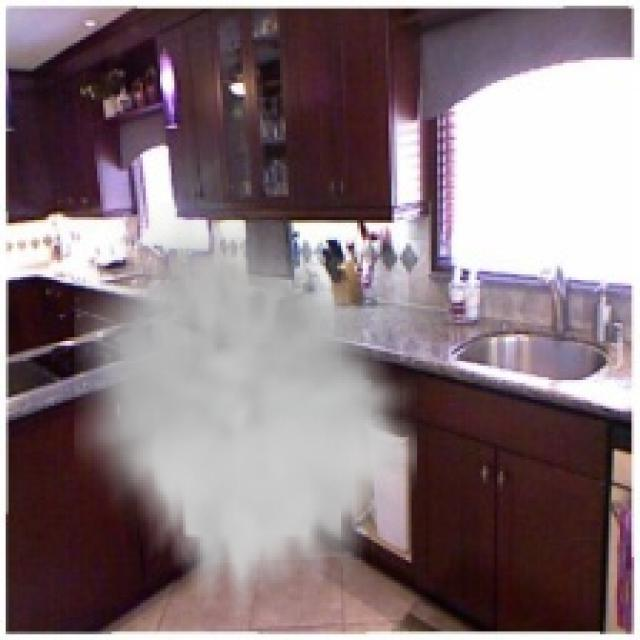Smoke: (74, 202, 417, 614)
